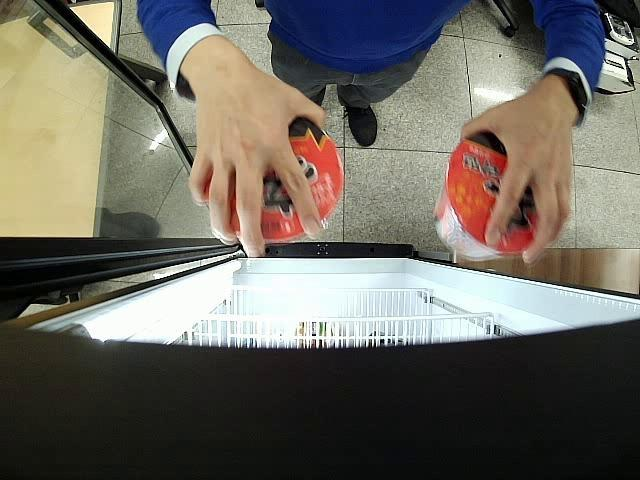01_ShinRamen_L: (204, 116, 346, 244), (434, 128, 538, 262)
